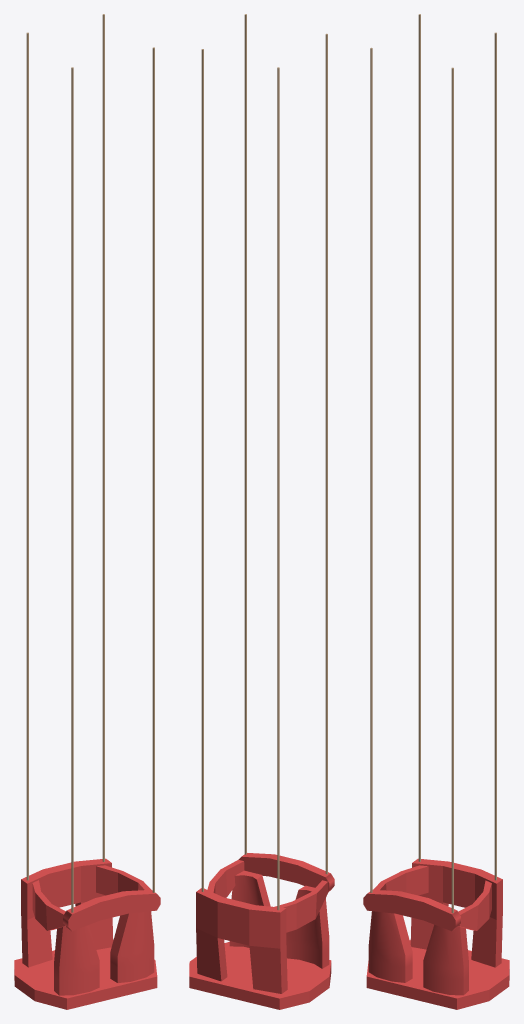
File: Toy_Chair_1.fbx
The picture shows the model from 3 angles, left to right: view 1: azimuth 30°, elevation 25°; view 2: azimuth 150°, elevation 25°; view 3: azimuth 330°, elevation 25°; orthographic projection.
Parts seen in each view (by area): view 1: Toy_Chair6, pCylinder2, pCylinder3, pCylinder5, pCylinder4; view 2: Toy_Chair6, pCylinder2, pCylinder3, pCylinder4, pCylinder5; view 3: Toy_Chair6, pCylinder3, pCylinder2, pCylinder4, pCylinder5.
Part boxes in pixels (x1,y1,x2,y2): Toy_Chair6: (14,858,160,1009); pCylinder2: (26,32,28,880); pCylinder3: (102,14,104,861); pCylinder5: (71,67,73,912); pCylinder4: (152,47,154,892); Toy_Chair6: (189,853,334,1009); pCylinder2: (277,67,279,910); pCylinder3: (201,49,203,891); pCylinder4: (244,14,246,854); pCylinder5: (325,33,327,874); Toy_Chair6: (363,858,509,1009); pCylinder3: (494,32,496,880); pCylinder2: (418,14,420,861); pCylinder4: (451,67,453,913); pCylinder5: (370,47,372,892).
Size of the model in its own units: 3.19 by 23.73 by 2.54.
